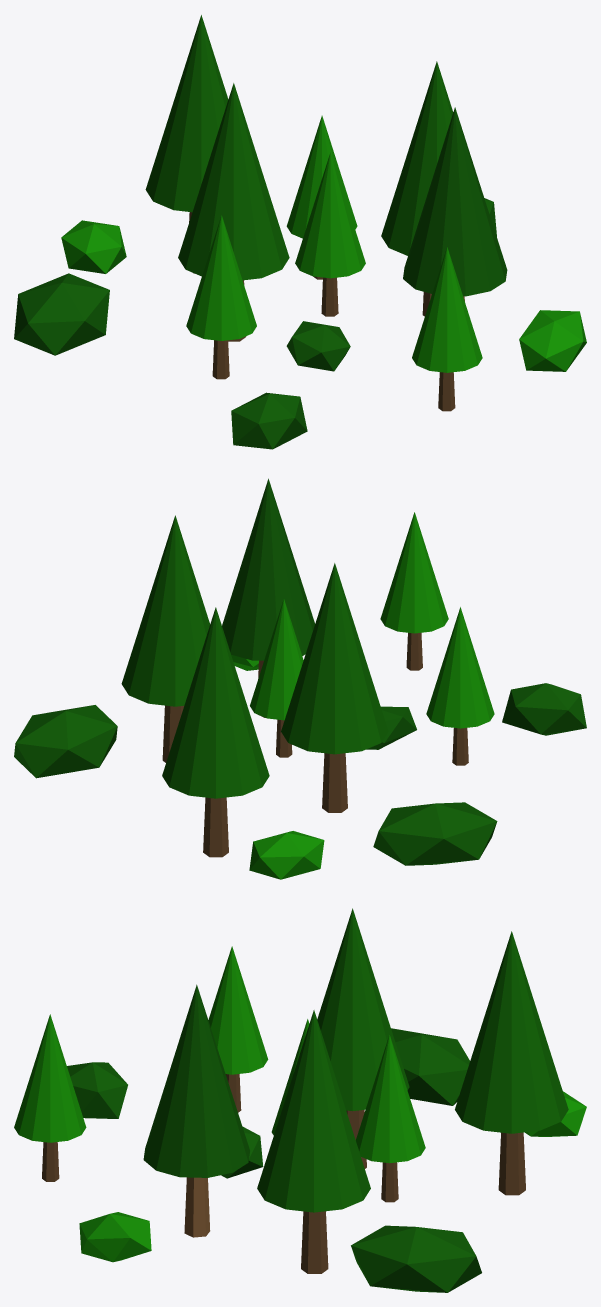
The model's file is street0_4.fbx.
The picture shows the model from 3 angles, top to bottom: view 1: azimuth 30°, elevation 25°; view 2: azimuth 150°, elevation 25°; view 3: azimuth 270°, elevation 25°; orthographic projection. The views are drawn at different scales.
Parts seen in each view (by area): view 1: nadelTree.004, nadelTree.002, nadelTree, bush.001, nadelTree.007, nadelTree.003, nadelTree.006, nadelTree.005, bush.003, bush.002, bush.005, nadelTree.001 (+1 smaller); view 2: nadelTree, nadelTree.004, nadelTree.007, nadelTree.002, bush.001, bush, nadelTree.003, nadelTree.006, nadelTree.005, bush.003, bush.005, bush.004; view 3: nadelTree, nadelTree.007, nadelTree.002, nadelTree.004, bush, nadelTree.006, nadelTree.001, nadelTree.003, bush.001, bush.002, bush.003, bush.005 (+1 smaller).
Part boxes in pixels (<box>): nadelTree.004: <box>178,83,289,341</box>; nadelTree.002: <box>403,107,507,301</box>; nadelTree: <box>145,15,228,273</box>; bush.001: <box>14,273,109,355</box>; nadelTree.007: <box>381,61,453,316</box>; nadelTree.003: <box>186,215,256,379</box>; nadelTree.006: <box>412,247,482,411</box>; nadelTree.005: <box>295,152,365,316</box>; bush.003: <box>231,392,307,449</box>; bush.002: <box>519,310,586,371</box>; bush.005: <box>61,220,126,273</box>; nadelTree.001: <box>286,115,357,279</box>; nadelTree: <box>162,607,269,857</box>; nadelTree.004: <box>281,563,388,812</box>; nadelTree.007: <box>121,515,209,762</box>; nadelTree.002: <box>222,478,314,717</box>; bush.001: <box>373,802,497,865</box>; bush: <box>14,705,117,778</box>; nadelTree.003: <box>426,607,494,765</box>; nadelTree.006: <box>380,512,448,670</box>; nadelTree.005: <box>250,599,303,757</box>; bush.003: <box>502,683,586,735</box>; bush.005: <box>249,831,324,879</box>; bush.004: <box>366,706,416,749</box>; nadelTree: <box>455,931,568,1195</box>; nadelTree.007: <box>257,1010,370,1273</box>; nadelTree.002: <box>143,984,249,1237</box>; nadelTree.004: <box>317,908,409,1168</box>; bush: <box>351,1225,481,1292</box>; nadelTree.006: <box>14,1014,86,1181</box>; nadelTree.001: <box>356,1034,425,1202</box>; nadelTree.003: <box>208,946,268,1112</box>; bush.001: <box>391,1028,469,1105</box>; bush.002: <box>79,1212,151,1262</box>; bush.003: <box>67,1062,127,1118</box>; bush.005: <box>525,1091,586,1136</box>.
Bounding box in the file's own units: 86.55 × 46.03 × 88.72.
